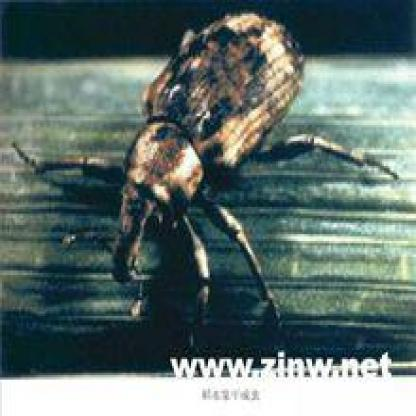rice-bug: (108, 12, 304, 286)
